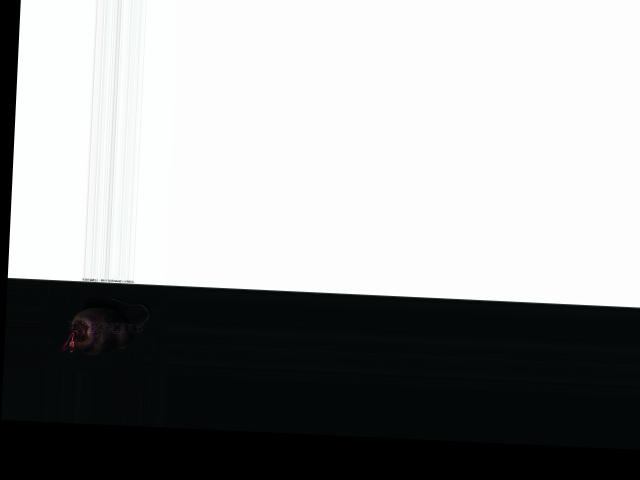beet: (59, 295, 150, 357)
